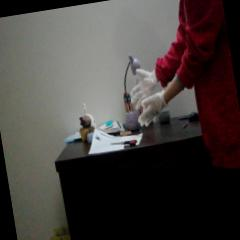gloved: (126, 66, 160, 104), (134, 91, 168, 128)
